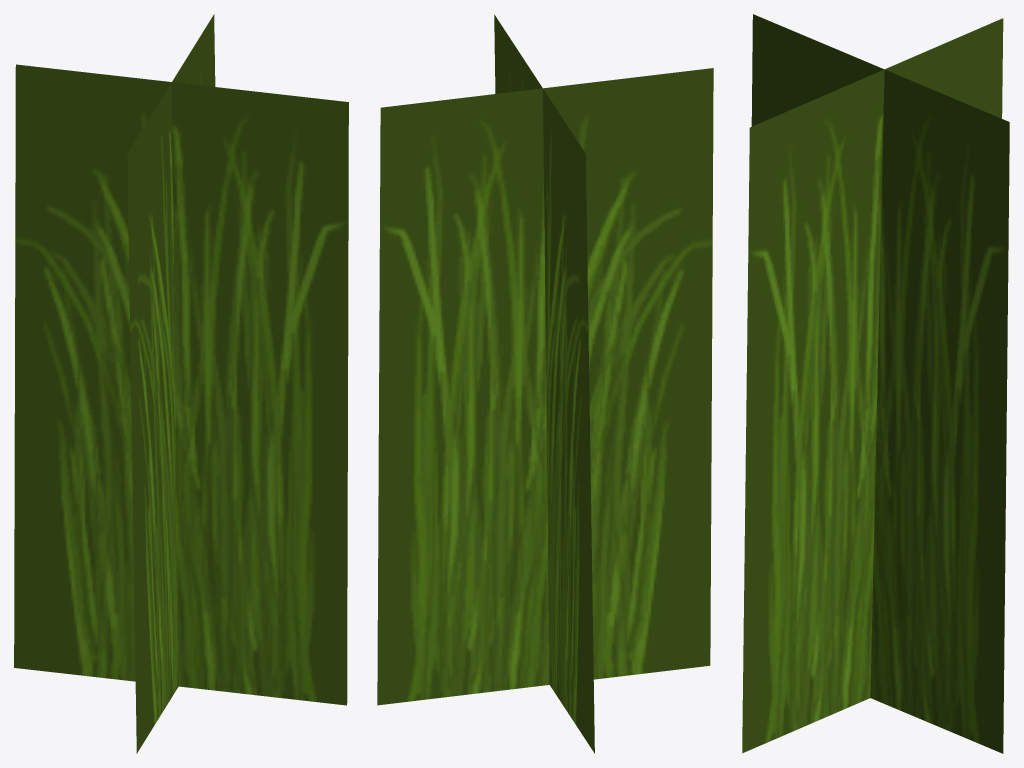
File: GrassTall.glb
3 views of the same model, side by side, from view 1: azimuth 30°, elevation 25°; view 2: azimuth 150°, elevation 25°; view 3: azimuth 270°, elevation 25° (orthographic). The views are drawn at different scales.
Parts seen in each view (by area): view 1: grass_tall; view 2: grass_tall; view 3: grass_tall.
Part boxes in pixels (box(x1,y1,x2,y2)): grass_tall: box(14, 14, 348, 753); grass_tall: box(377, 14, 713, 753); grass_tall: box(742, 14, 1009, 753).
Bounding box in the file's own units: 0.3972 × 1.04 × 0.3989.
Materials: 2 (2 with a texture image).
